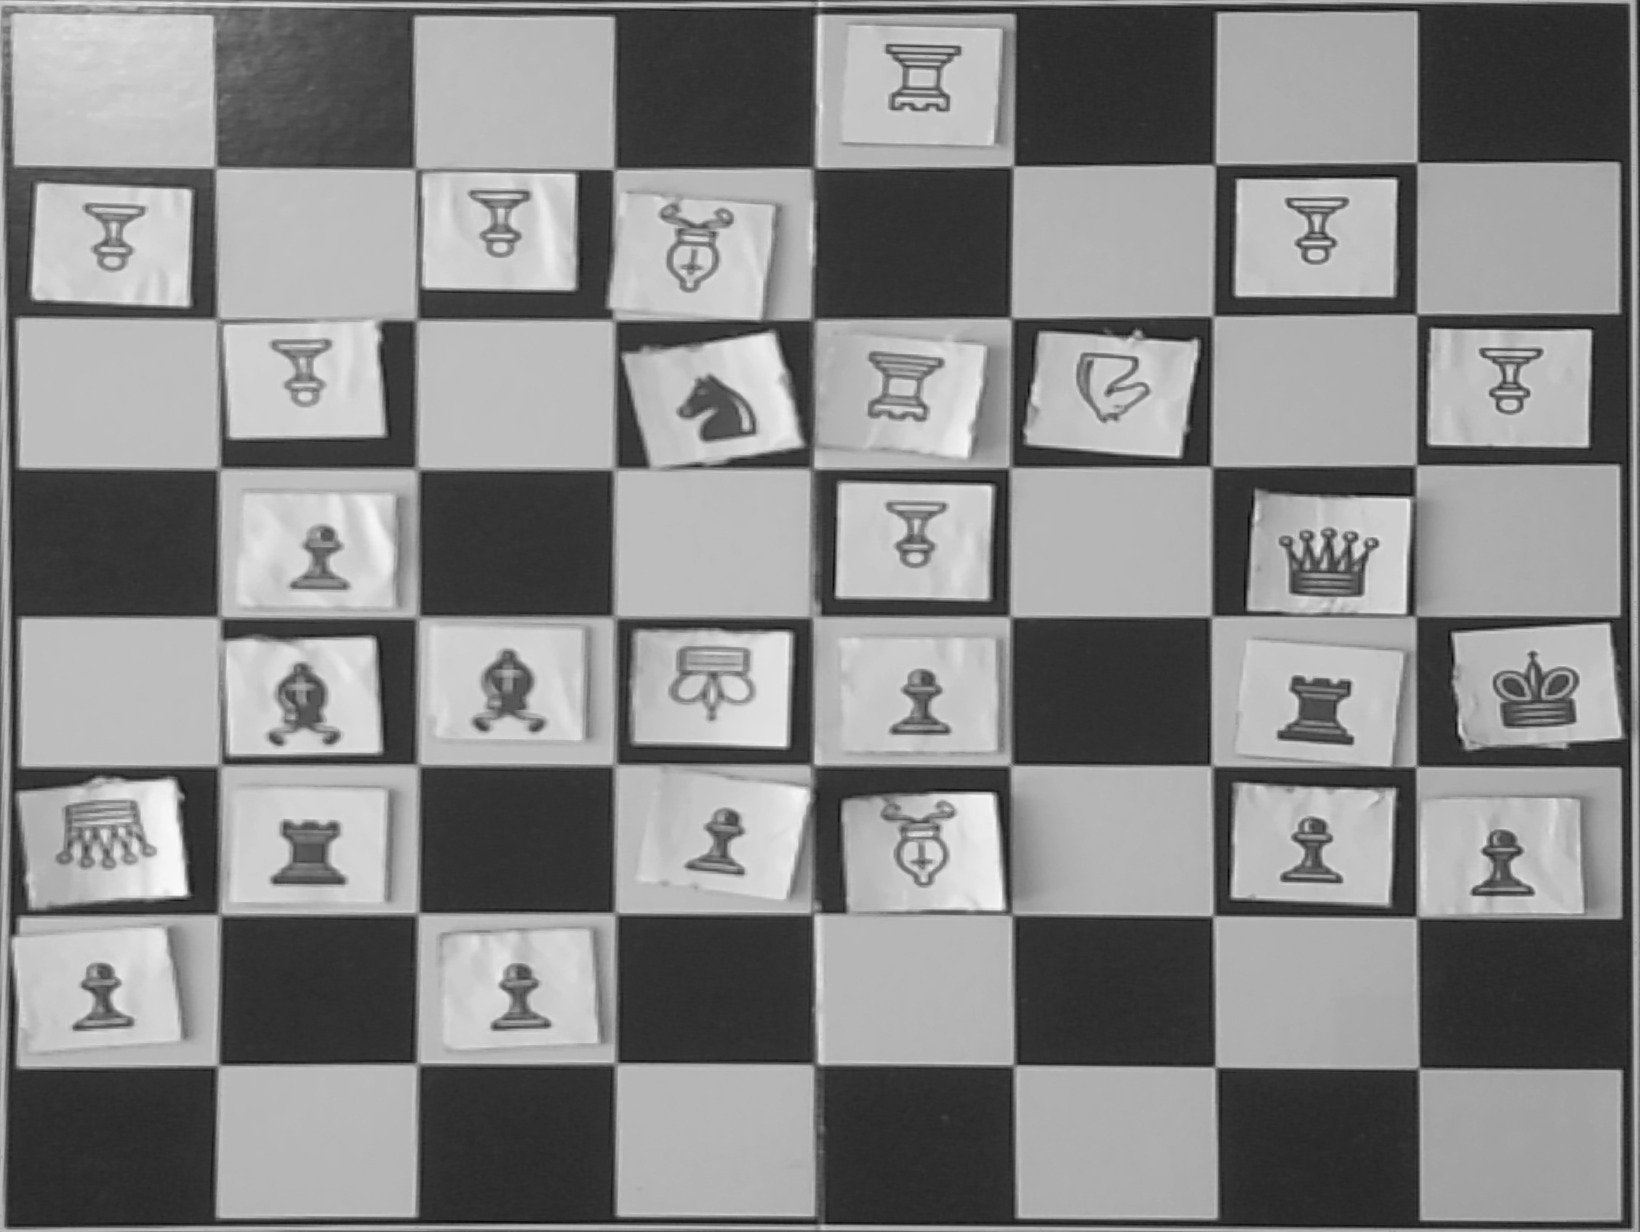b_bishop: (234, 644, 381, 754), (438, 628, 584, 738)
b_king: (1467, 637, 1615, 740)
b_knight: (651, 356, 779, 450)
b_pawn: (659, 782, 778, 888), (456, 936, 575, 1042), (1254, 788, 1373, 894), (258, 497, 375, 603)
b_queen: (1262, 498, 1397, 610)
b_rook: (245, 791, 381, 902), (1245, 650, 1379, 760)
w_bishop: (633, 197, 752, 305), (857, 791, 975, 898)
w_king: (638, 633, 777, 742)
w_knight: (1048, 338, 1177, 446)
w_pawn: (243, 327, 366, 430), (1439, 335, 1564, 436), (438, 182, 560, 283), (856, 490, 979, 591)
w_queen: (31, 795, 162, 888)
w_rook: (839, 342, 970, 449), (858, 31, 989, 137)
